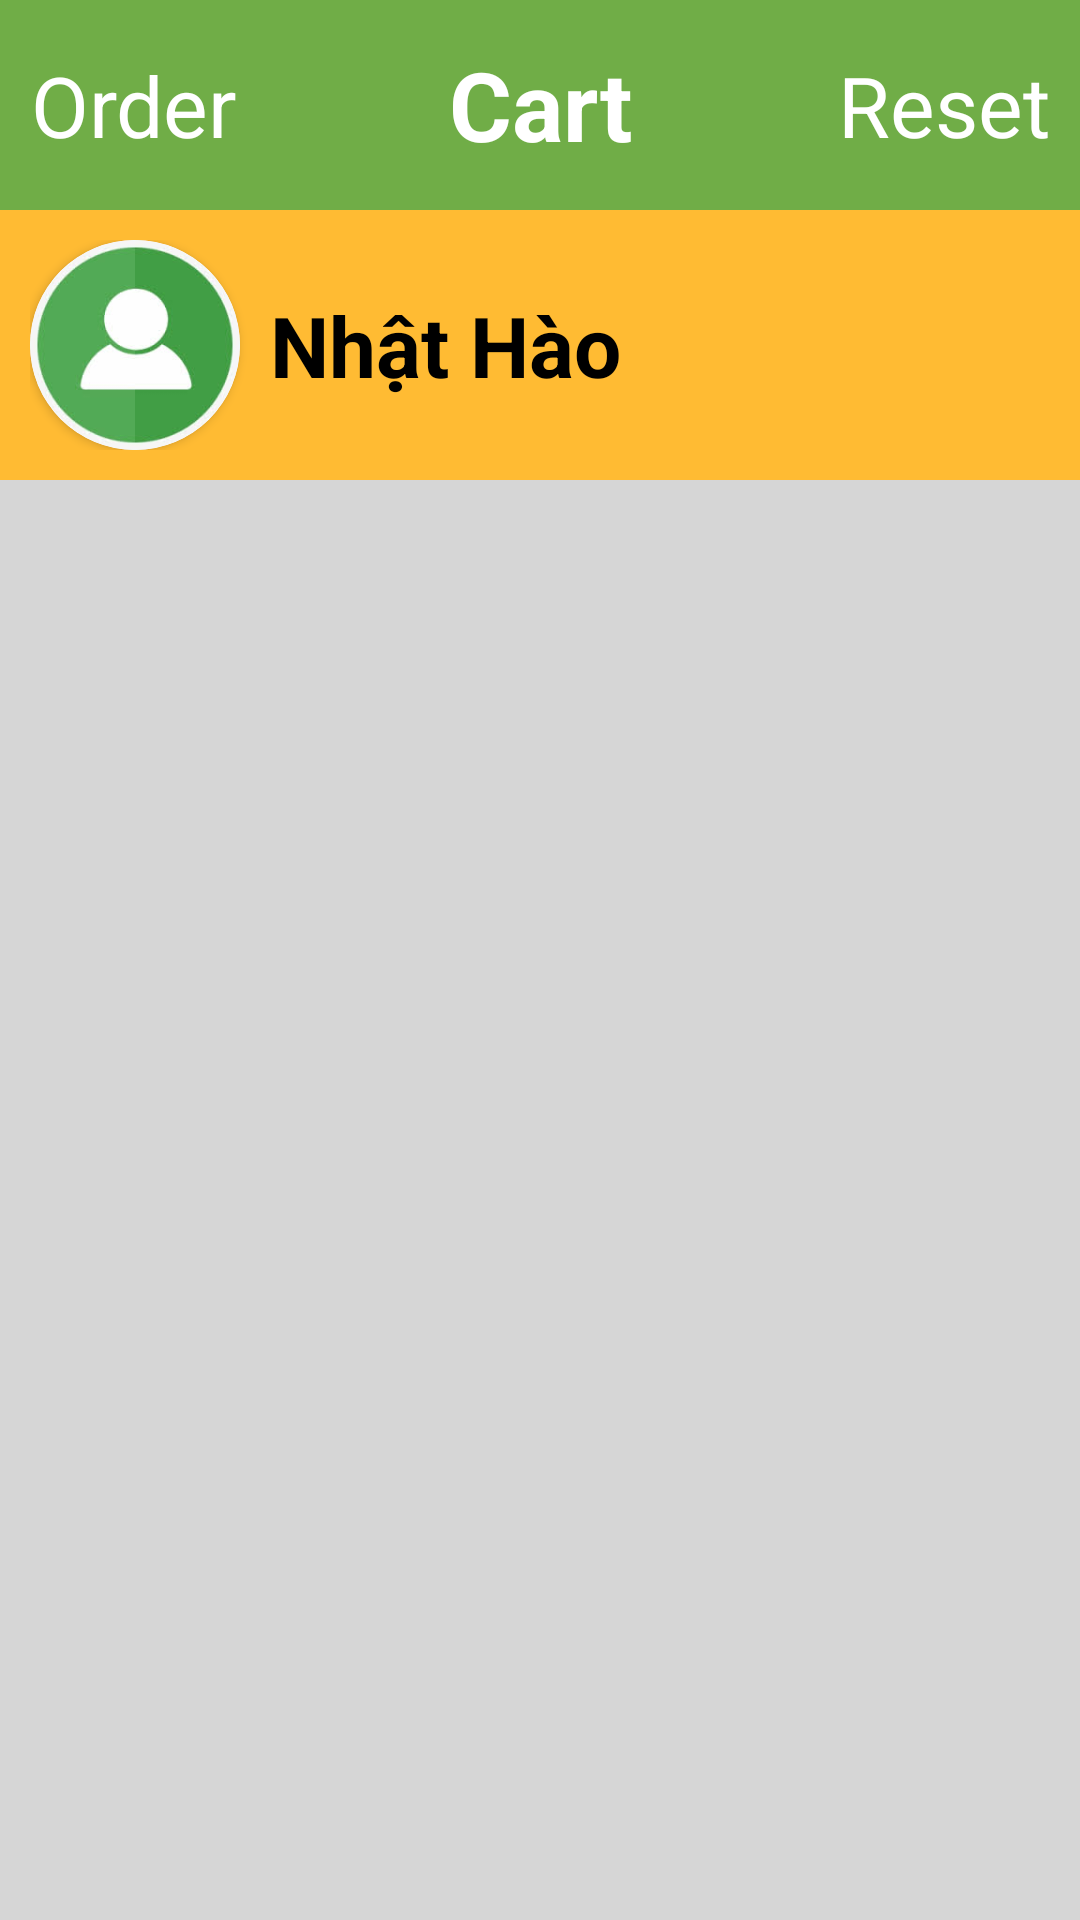

Where to tap for icons on this 1080×1920 app screen, as [x,y]:
avatardefault: [135,345]
